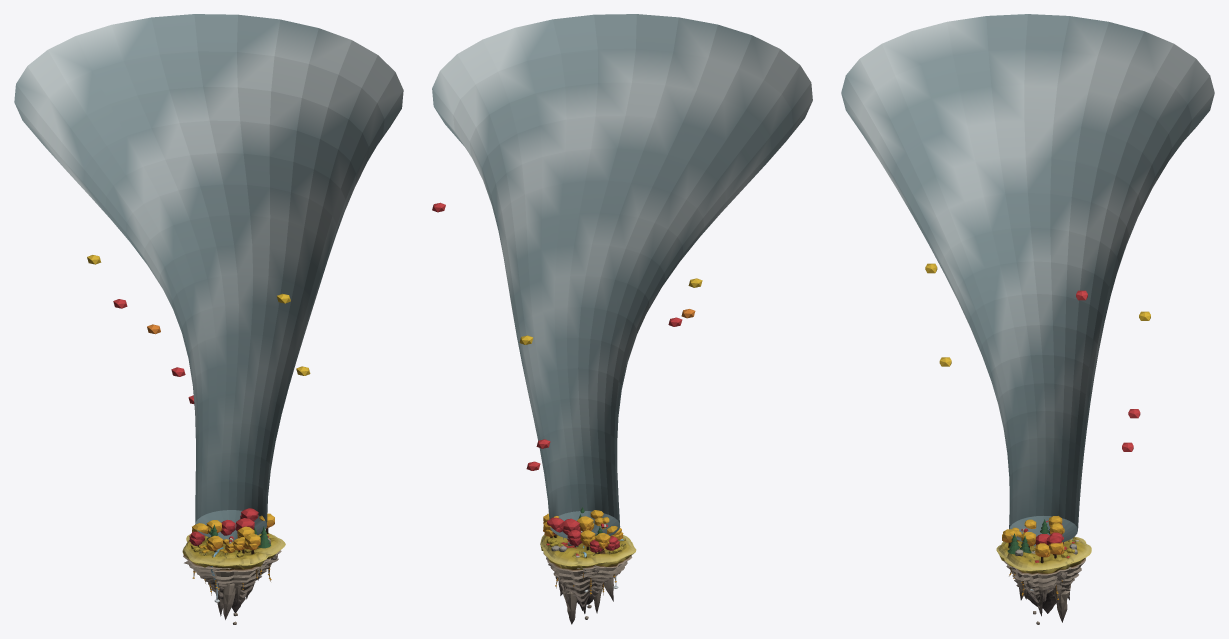
File: isle-gust-HkoZsqGL.glb
3 renders of one model, left to right at view 1: azimuth 30°, elevation 25°; view 2: azimuth 150°, elevation 25°; view 3: azimuth 270°, elevation 25°, orthographic. The views are drawn at different scales.
Visible parts, largest first — view 1: far, isle_2, isle_1, isle_0; view 2: far, isle_2, isle_1, isle_0; view 3: far, isle_1, isle_2, isle_0.
Boxes of the visible parts, left/top/right/bottom form: far: left=14, top=14, right=403, bottom=541; isle_2: left=192, top=508, right=267, bottom=624; isle_1: left=182, top=513, right=285, bottom=598; isle_0: left=186, top=526, right=272, bottom=592; far: left=432, top=14, right=812, bottom=539; isle_2: left=542, top=517, right=623, bottom=624; isle_1: left=540, top=513, right=636, bottom=595; isle_0: left=542, top=507, right=631, bottom=580; far: left=841, top=14, right=1214, bottom=546; isle_1: left=1004, top=527, right=1074, bottom=605; isle_2: left=996, top=516, right=1091, bottom=624; isle_0: left=996, top=519, right=1086, bottom=591.
Bounding box in the file's own units: 368 × 562 × 368.
